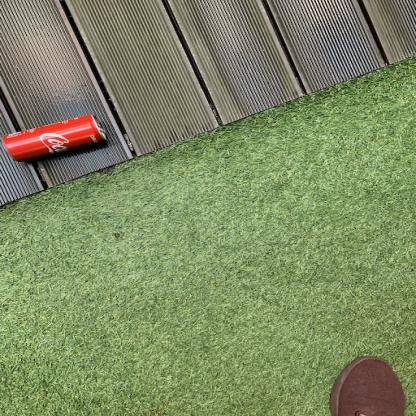trash: (0, 116, 108, 166)
